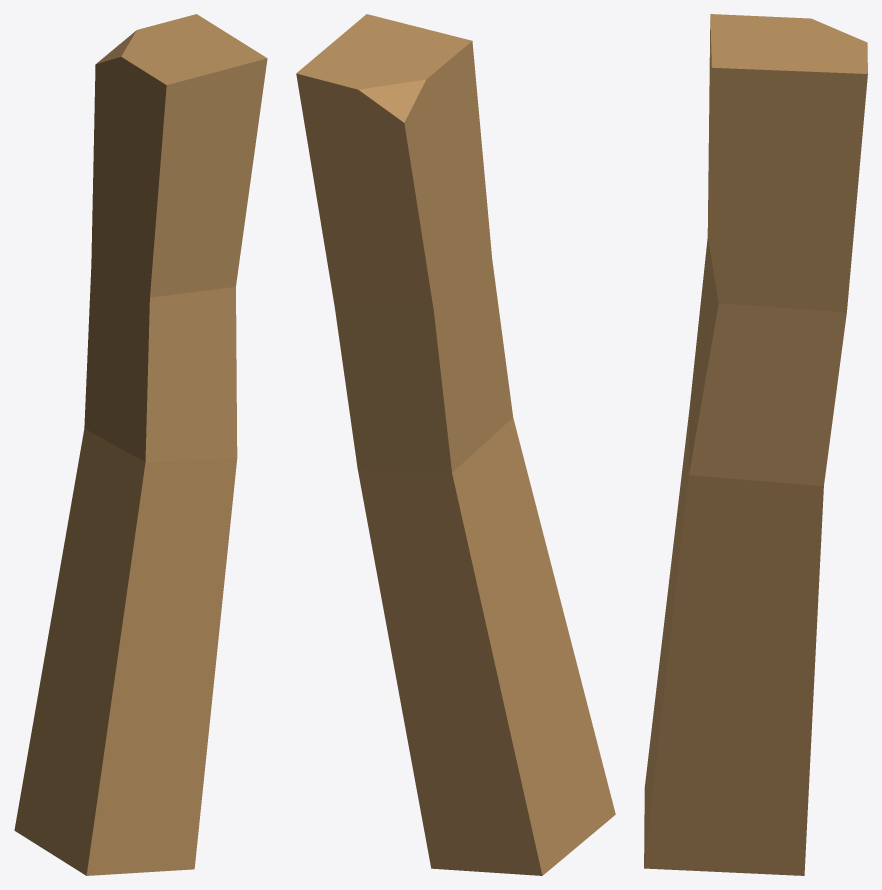
Rendered from Stair_Post.fbx.
3 renders of one model, left to right at view 1: azimuth 30°, elevation 25°; view 2: azimuth 150°, elevation 25°; view 3: azimuth 270°, elevation 25°, orthographic. The views are drawn at different scales.
Parts seen in each view (by area): view 1: Stair_Post; view 2: Stair_Post; view 3: Stair_Post.
Part boxes in pixels (x1,y1,x2,y2): Stair_Post: (14,14,267,875); Stair_Post: (296,14,615,875); Stair_Post: (644,14,867,875).
Size of the model in its own units: 36.7 by 128 by 29.97.
